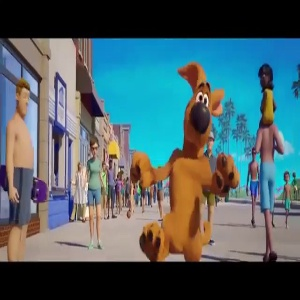Scooby: (172, 54, 229, 160)
